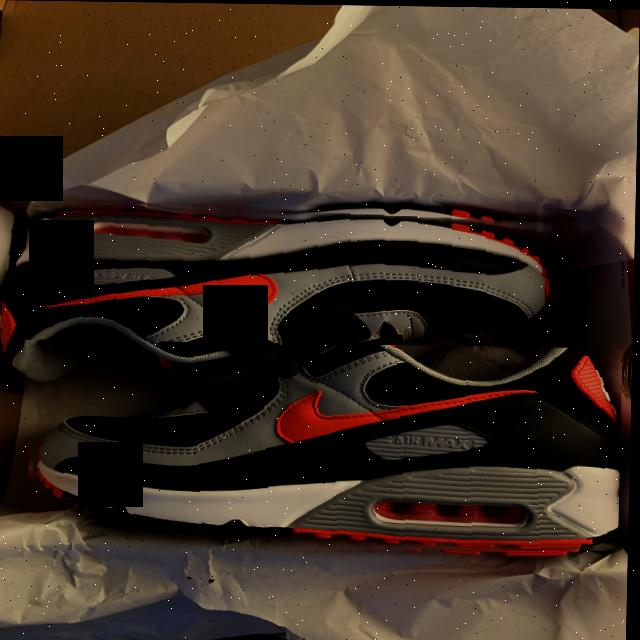shoe: (22, 339, 624, 557), (0, 198, 554, 383)
